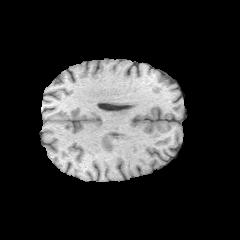glioma: (101, 97, 161, 152)
